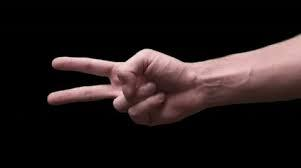scissors: (44, 44, 197, 133)
